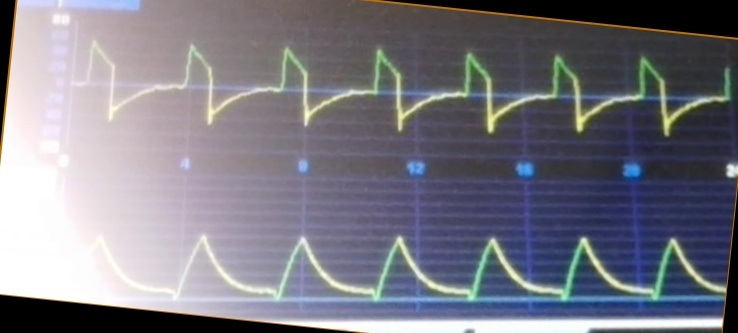Flow: (79, 40, 730, 145)
Leakage Volume: (89, 228, 720, 304)
